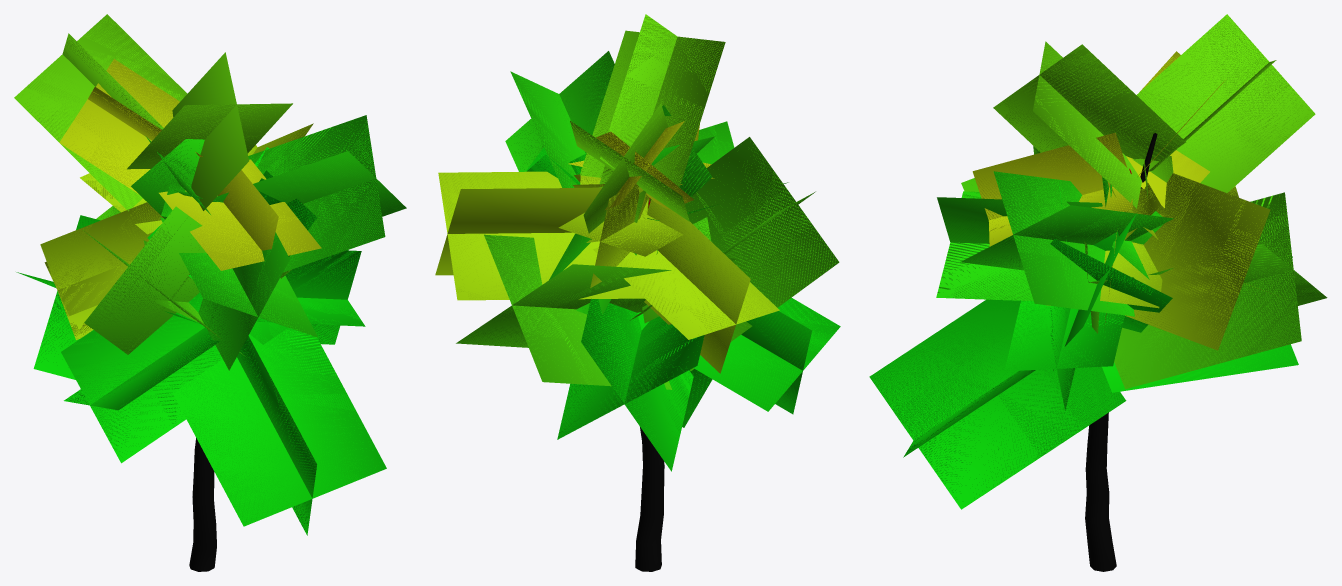
File: Type_1_Tree_2.fbx
3 views of the same model, side by side, from view 1: azimuth 30°, elevation 25°; view 2: azimuth 150°, elevation 25°; view 3: azimuth 270°, elevation 25° (orthographic). The views are drawn at different scales.
Visible parts, largest first — view 1: Leaf, Trunk; view 2: Leaf, Trunk; view 3: Leaf, Trunk.
Part boxes in pixels (x1,y1,x2,y2): Leaf: [14, 14, 406, 535]; Trunk: [189, 438, 216, 571]; Leaf: [435, 14, 840, 471]; Trunk: [635, 198, 664, 571]; Leaf: [869, 14, 1327, 509]; Trunk: [1085, 133, 1157, 571].
Bounding box in the file's own units: 1412 × 2176 × 1710.
